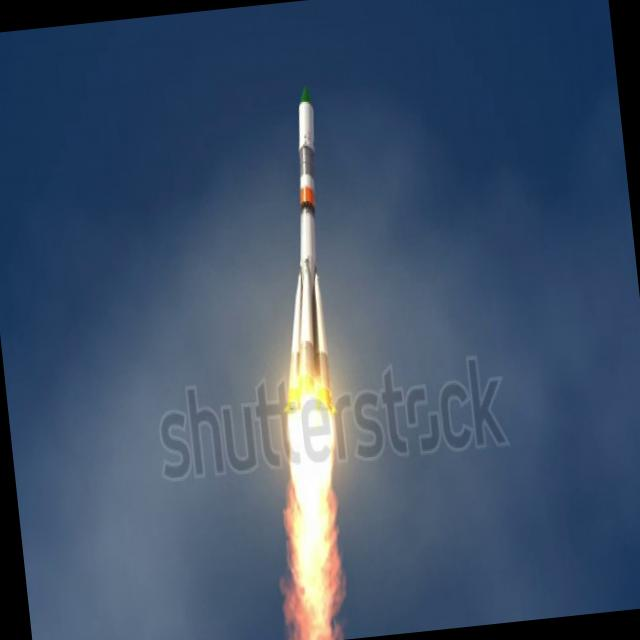rocket: (244, 83, 366, 566)
